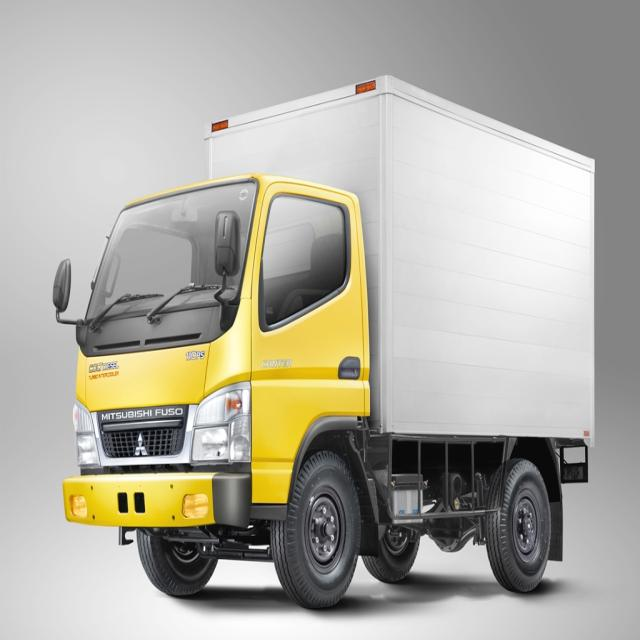truck: (52, 74, 595, 591)
